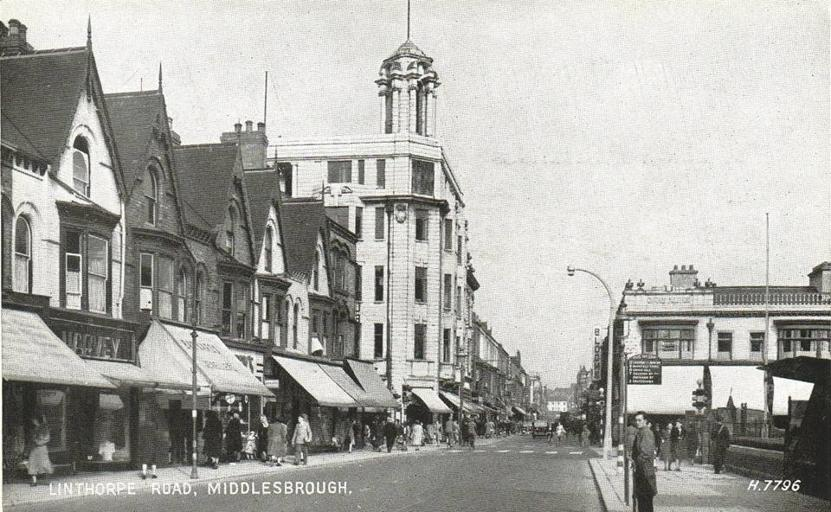non-vehicle: (444, 433, 455, 448), (546, 431, 553, 446), (555, 435, 563, 447)
